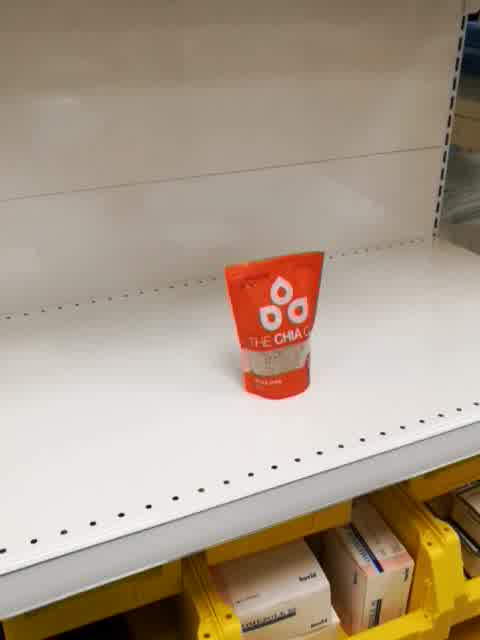whitechia: (223, 248, 326, 403)
